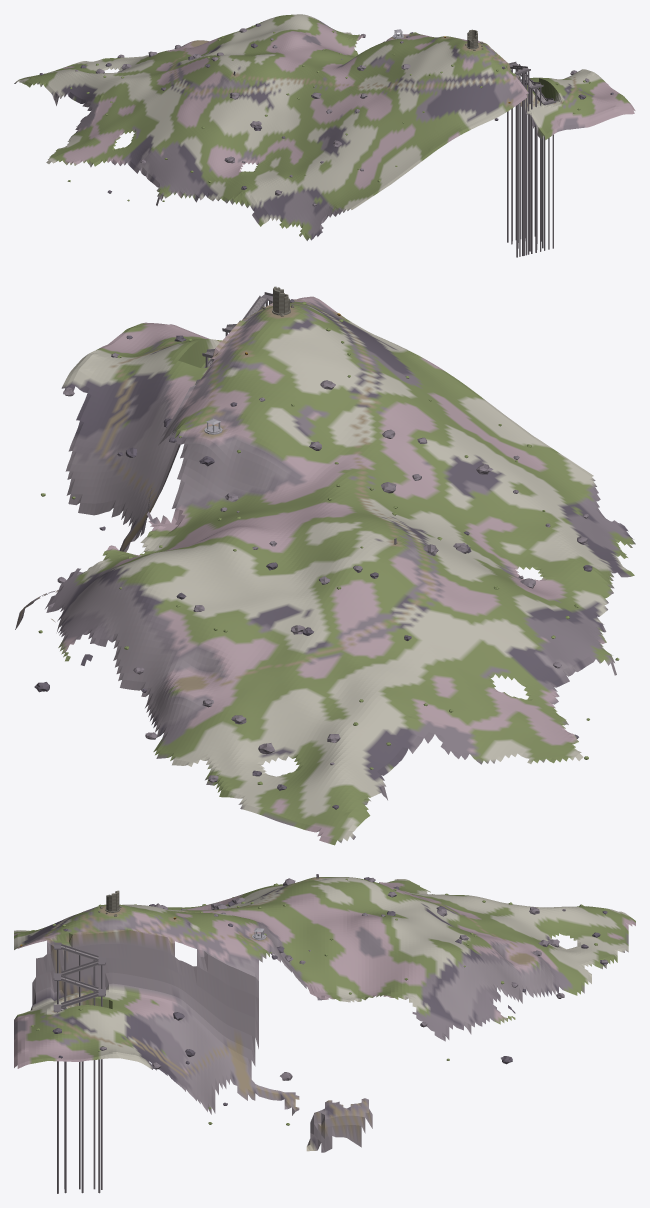
Rendered from coast_isl_saltglass.glb.
3 views of the same model, one above another, from view 1: azimuth 30°, elevation 25°; view 2: azimuth 150°, elevation 25°; view 3: azimuth 270°, elevation 25° (orthographic). The views are drawn at different scales.
Visible parts, largest first — view 1: geometry_0; view 2: geometry_0; view 3: geometry_0.
Boxes of the visible parts, x1=… form: geometry_0: x1=14, y1=14, x2=635, y2=257; geometry_0: x1=15, y1=286, x2=635, y2=845; geometry_0: x1=14, y1=874, x2=635, y2=1193.
Bounding box in the file's own units: 340 × 161 × 340.
